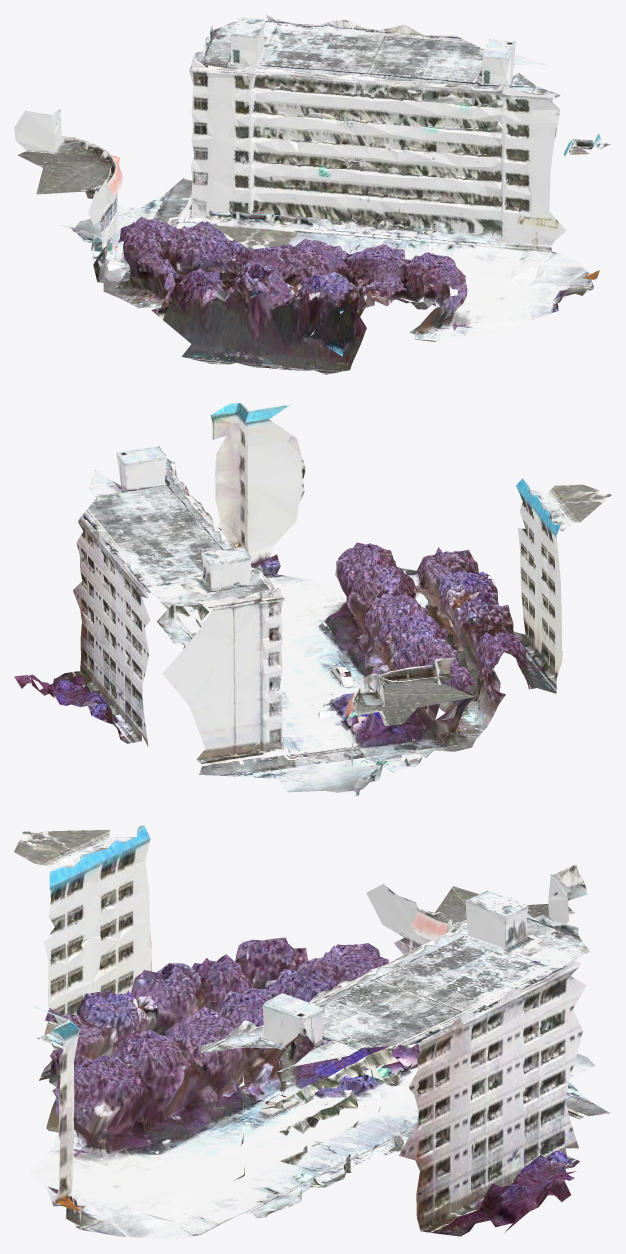
Rendered from Tile_+012_+018_L19_000031.glb.
3 views of the same model, one above another, from view 1: azimuth 30°, elevation 25°; view 2: azimuth 150°, elevation 25°; view 3: azimuth 270°, elevation 25° (orthographic). The views are drawn at different scales.
Visible parts, largest first — view 1: rtc; view 2: rtc; view 3: rtc.
Boxes of the visible parts, x1,y1,x2,y2 form: rtc: (14,14,611,374); rtc: (14,403,611,796); rtc: (14,825,609,1239).
Size of the model in its own units: 62.34 by 25.3 by 59.15.
1 material, 1 textured.
